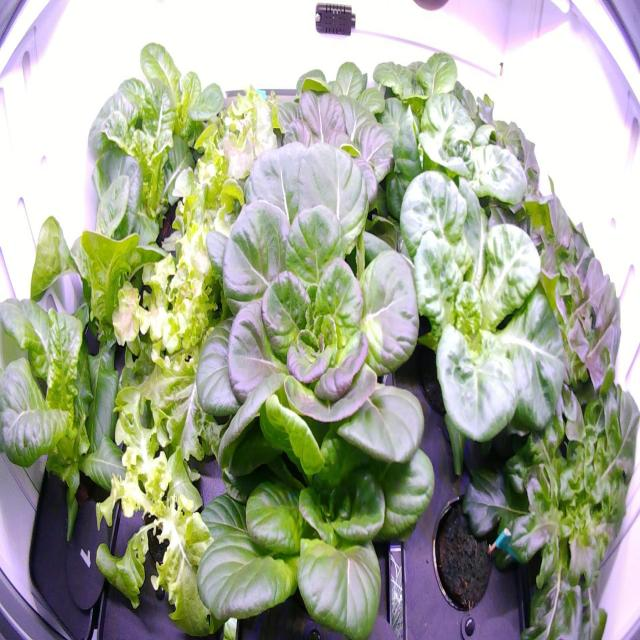Ready: (186, 131, 433, 499)
pod: (427, 475, 505, 619)
young: (182, 378, 442, 640), (380, 171, 570, 489), (2, 272, 145, 556), (16, 139, 170, 341), (380, 89, 535, 238), (82, 69, 199, 235), (267, 84, 396, 221), (366, 45, 494, 170), (133, 10, 229, 169), (273, 48, 392, 140)
